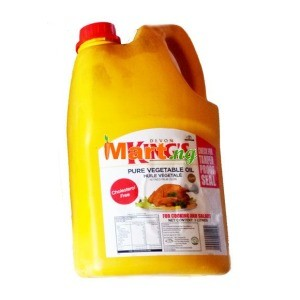vegetable oil_brain food: (72, 106, 221, 225)
